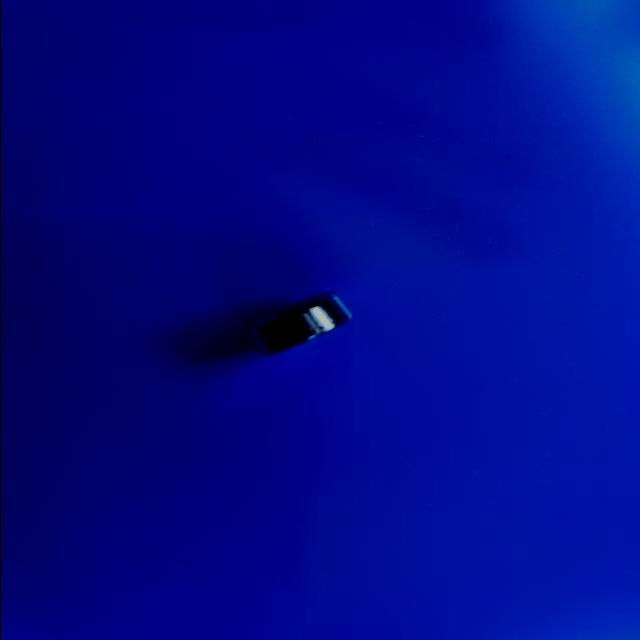COIN: (246, 291, 354, 359)
